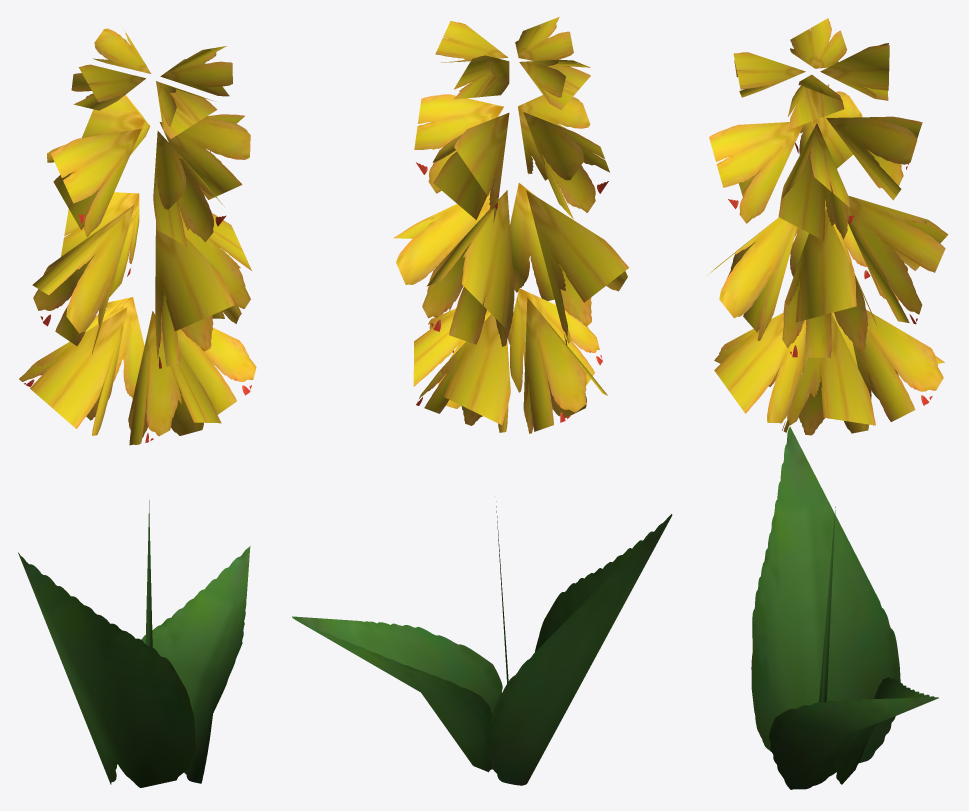
The model's file is flower-4.glb.
3 renders of one model, left to right at view 1: azimuth 30°, elevation 25°; view 2: azimuth 150°, elevation 25°; view 3: azimuth 270°, elevation 25°, orthographic.
Visible parts, largest first — view 1: Flower_4_Single; view 2: Flower_4_Single; view 3: Flower_4_Single.
Boxes of the visible parts, x1,y1,x2,y2 form: Flower_4_Single: (18, 28, 256, 787); Flower_4_Single: (292, 17, 672, 785); Flower_4_Single: (707, 18, 948, 789).
Size of the model in its own units: 0.1295 by 0.3 by 0.0915.
2 materials, 2 textured.
